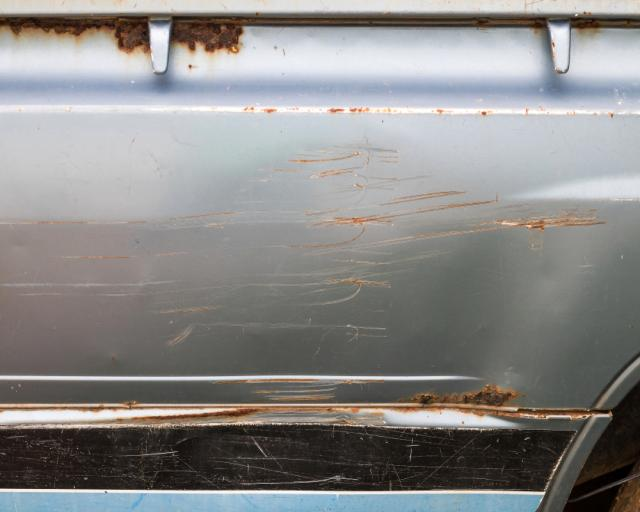scratch: (0, 147, 617, 345), (0, 380, 485, 487)
